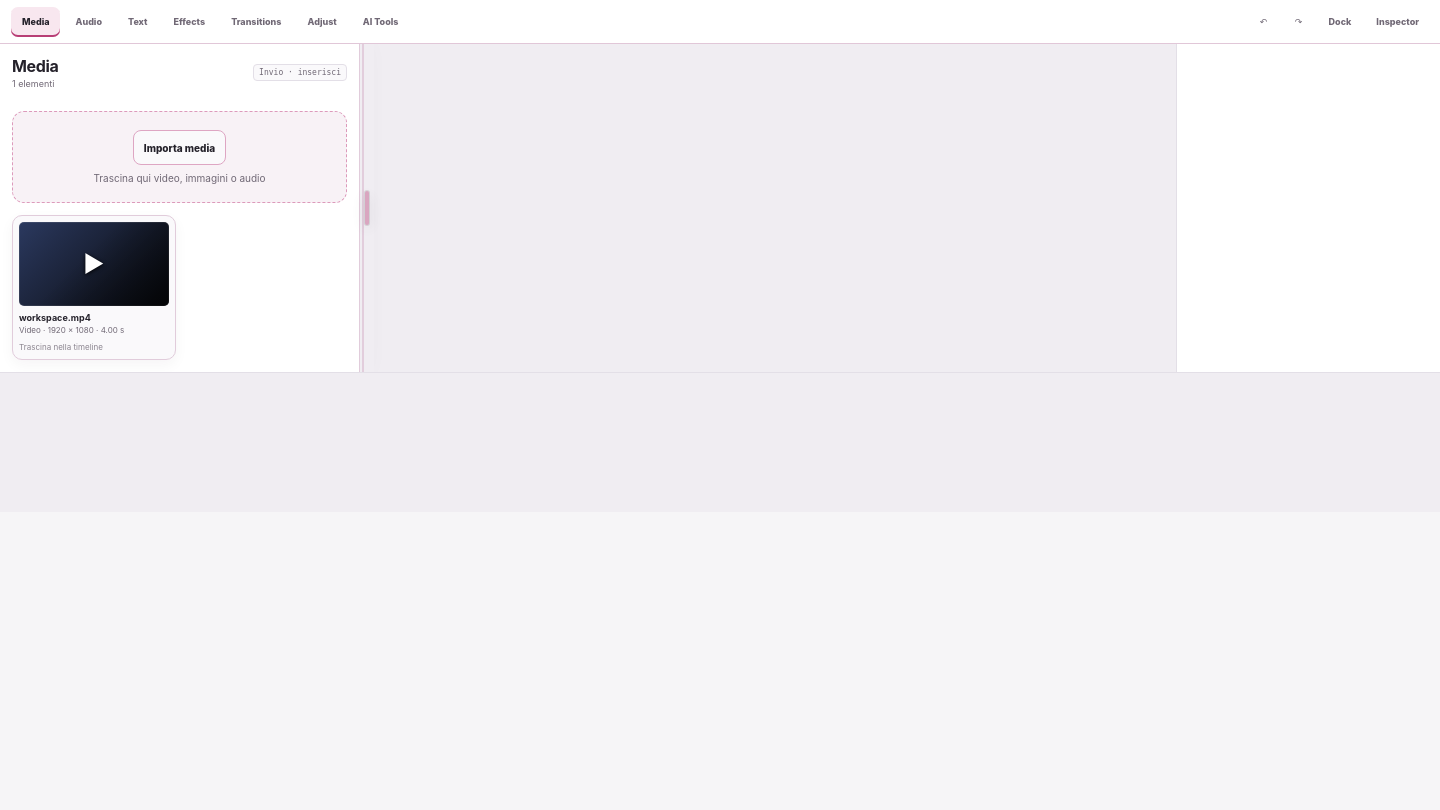
Test: VideoEditorWorkspace · artifact tools › keeps the modal open, reports the locked race and revokes the rejected blob
Click the button "AI Tools". click: {"x": 381, "y": 22}
box: x1=352 y1=6 x2=410 y2=36
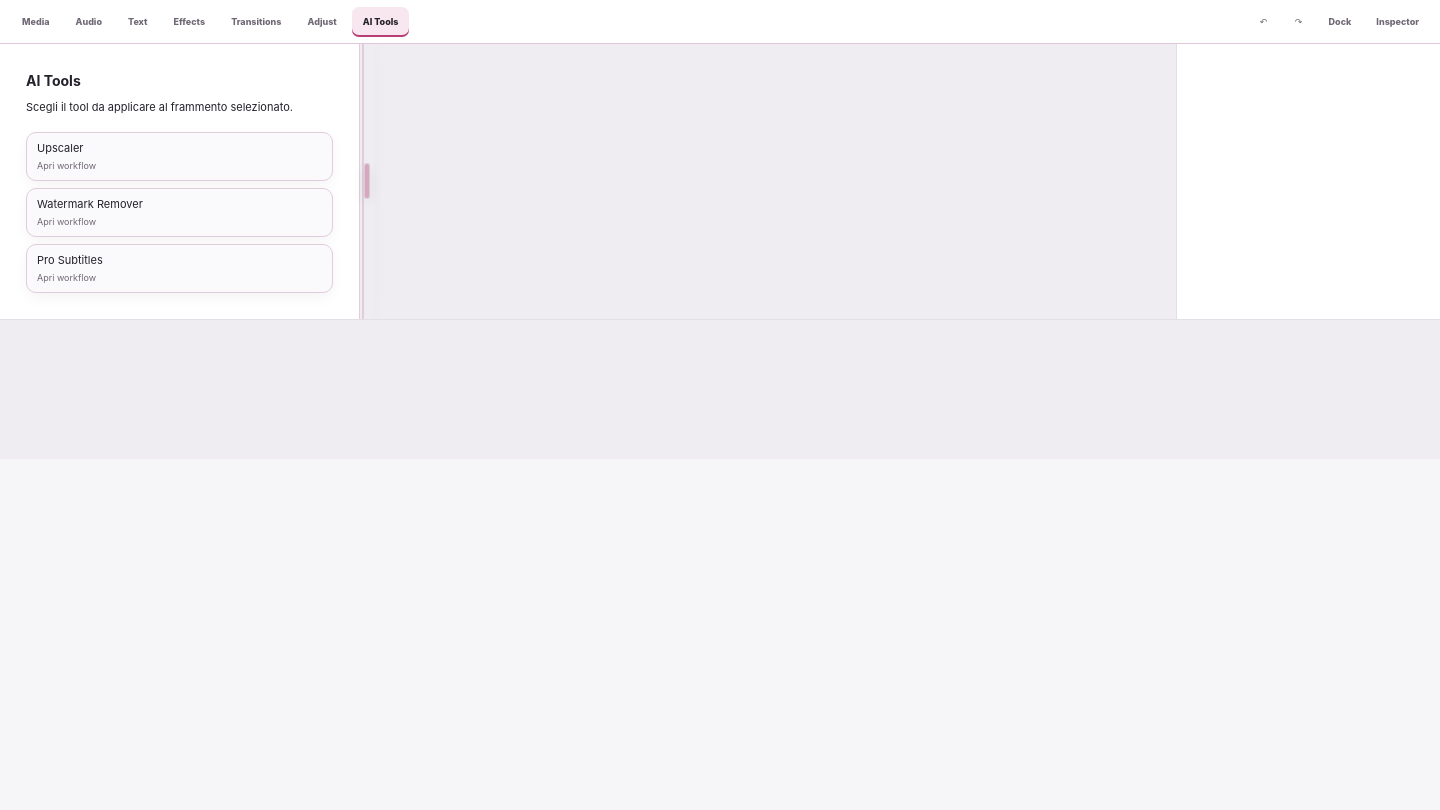
Click the button "Upscaler Apri workflow". click: {"x": 60, "y": 148}
box: x1=26 y1=132 x2=333 y2=180
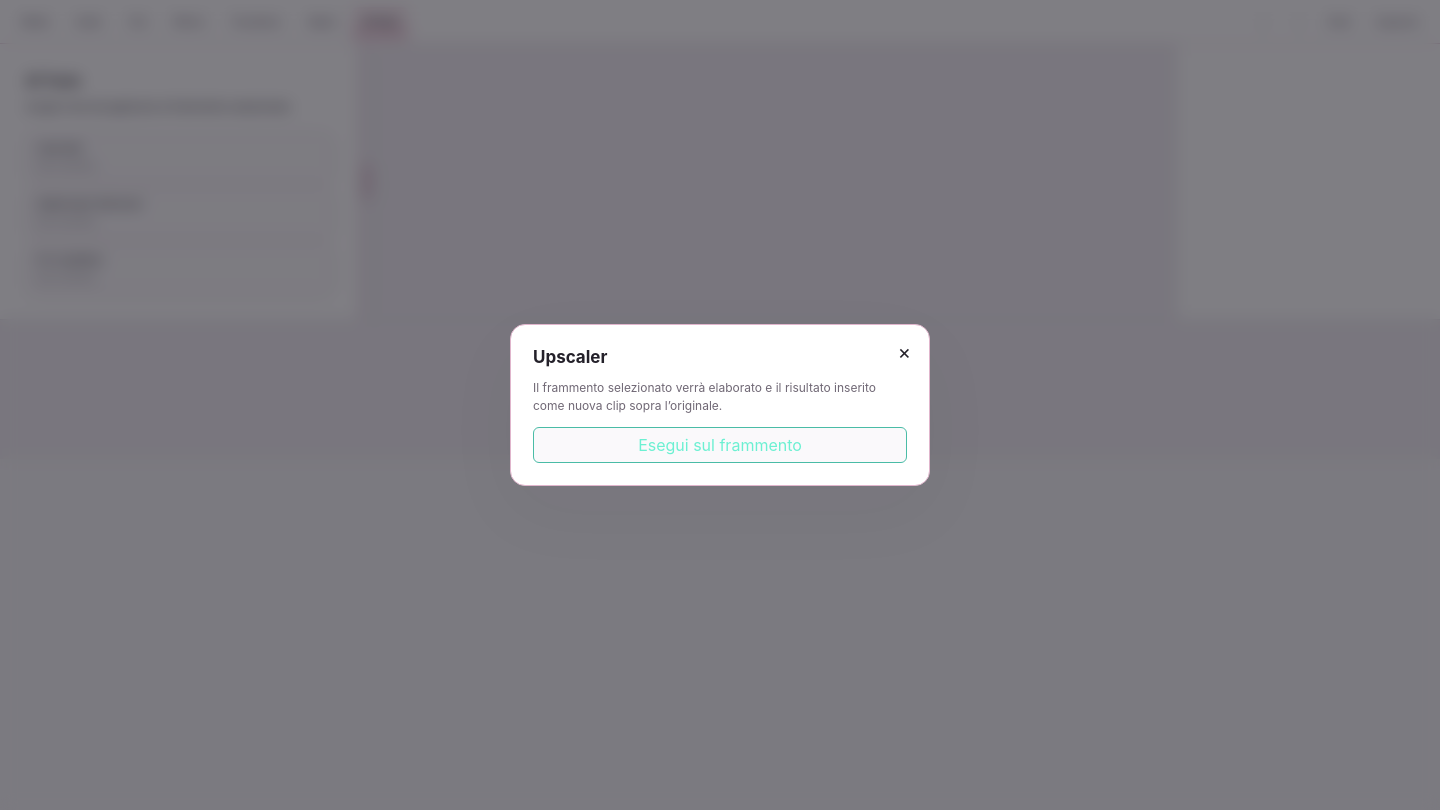
Click the button "Esegui sul frammento". click: {"x": 720, "y": 445}
box: x1=533 y1=427 x2=907 y2=463
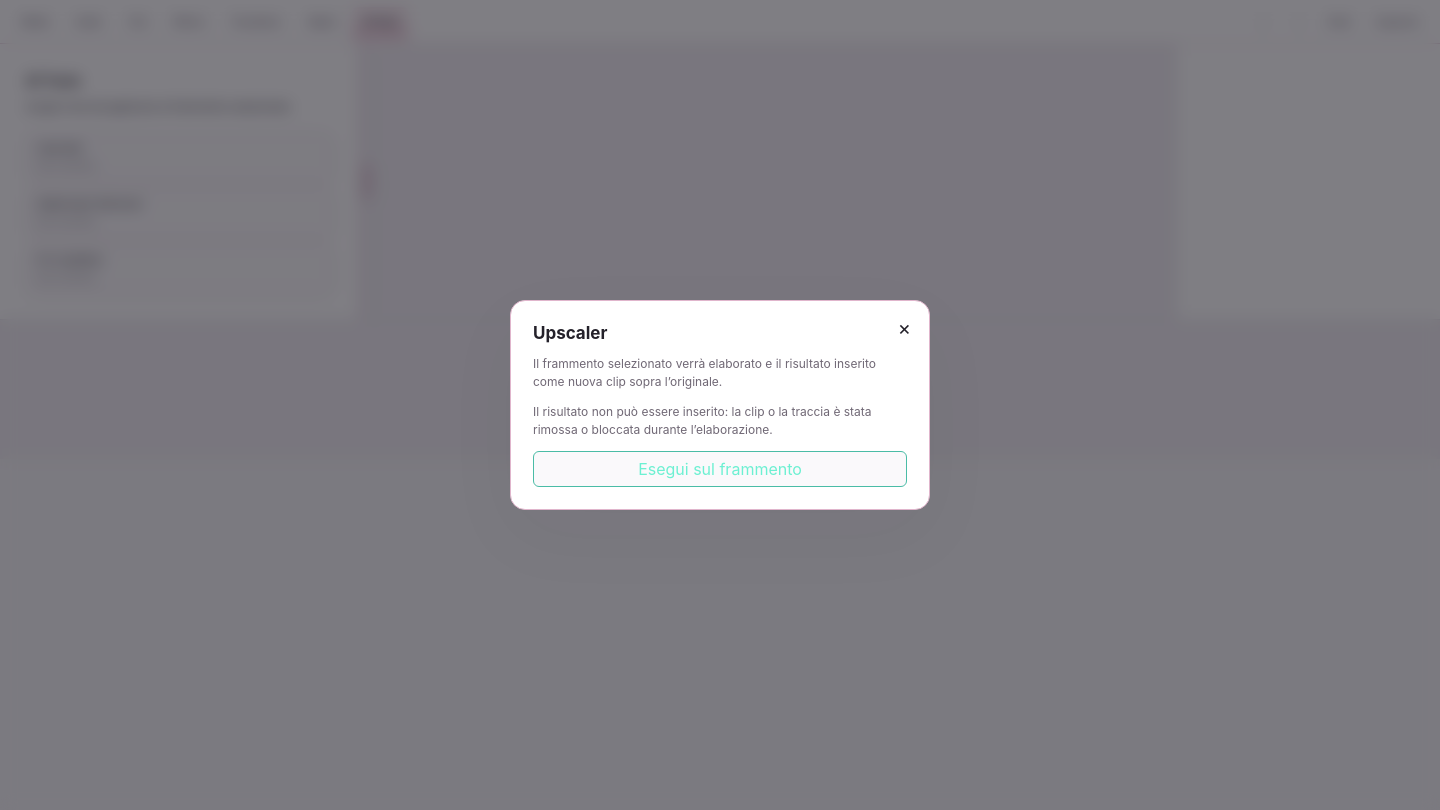
Expected: the dialog is shown, x1=510 y1=300 x2=930 y2=510
Expected: the message shows "rimossa o bloccata", x1=533 y1=404 x2=872 y2=437
